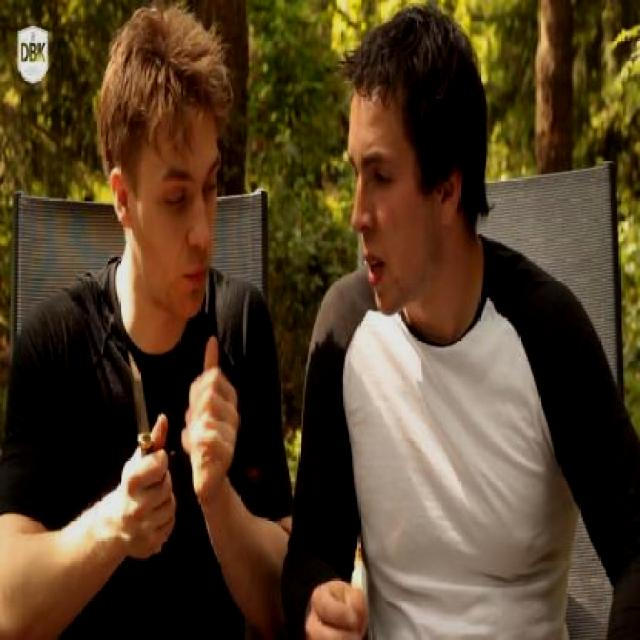knife: (117, 329, 177, 511)
